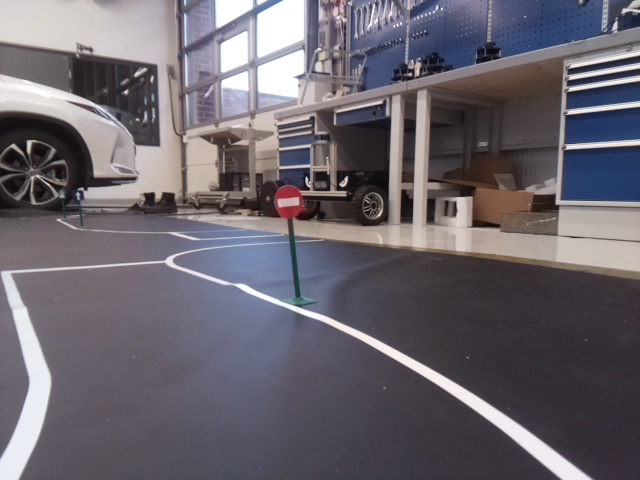NoEntry: (272, 184, 303, 219)
